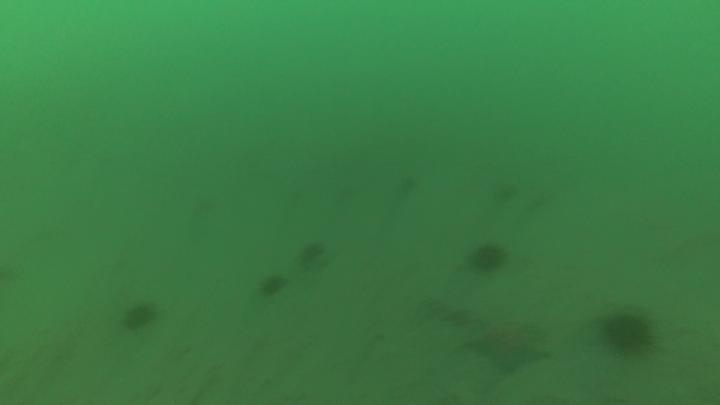echinus: (599, 308, 657, 358), (465, 240, 509, 276), (119, 299, 160, 334), (295, 239, 330, 272), (256, 271, 289, 300), (488, 178, 522, 206), (393, 171, 422, 200)
starfish: (461, 314, 553, 376)
